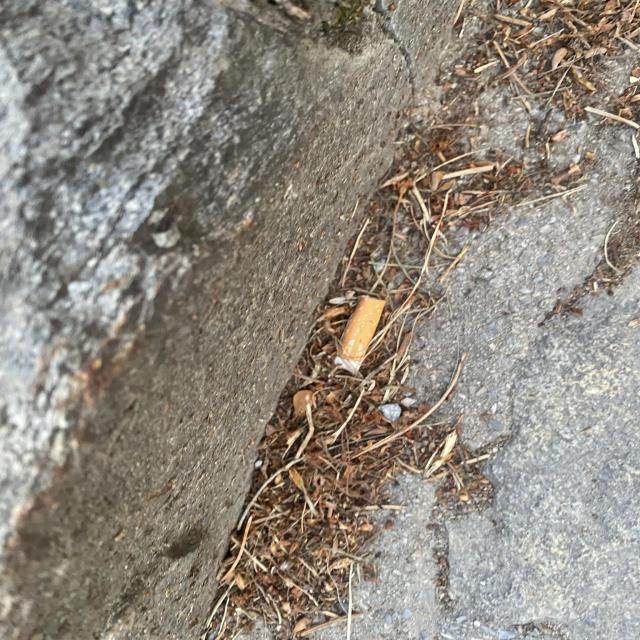other waste: (333, 295, 387, 376)
